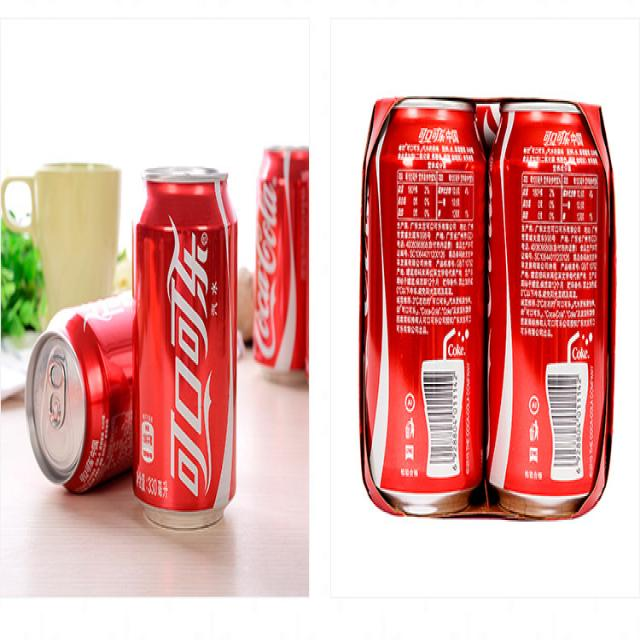can: (486, 99, 609, 518), (364, 98, 486, 516), (130, 162, 239, 533), (23, 292, 133, 498), (250, 141, 308, 391)
